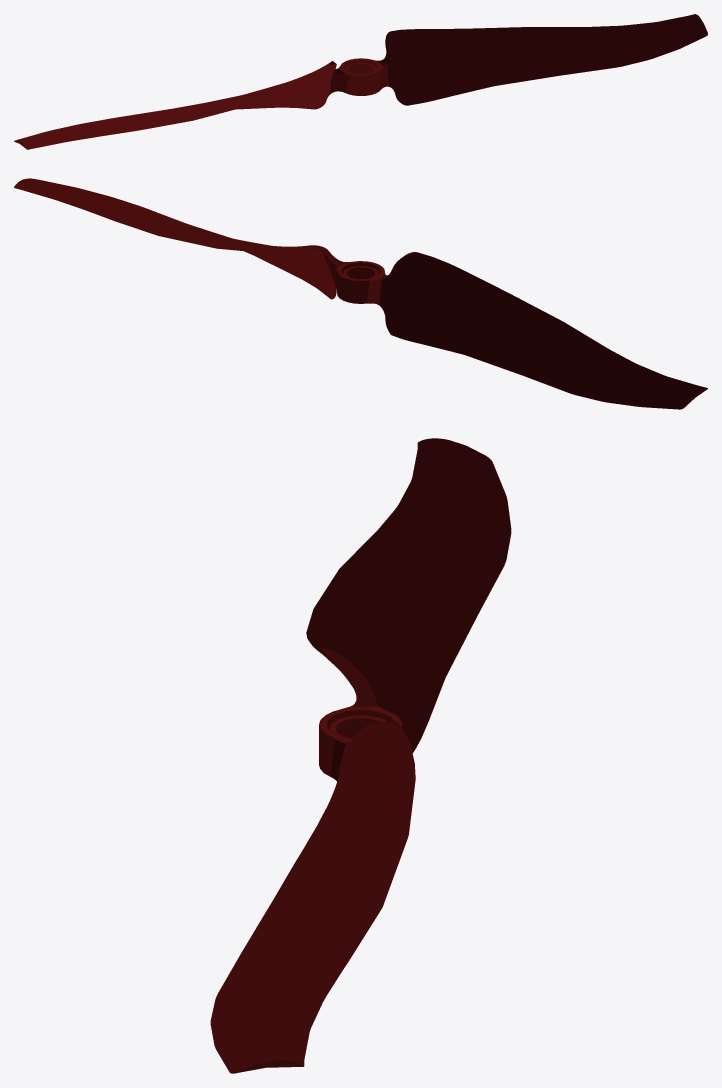
The model's file is default_propeller_5x3_ccw.dae.
3 views of the same model, one above another, from view 1: azimuth 30°, elevation 25°; view 2: azimuth 150°, elevation 25°; view 3: azimuth 270°, elevation 25° (orthographic). The views are drawn at different scales.
Parts seen in each view (by area): view 1: node0; view 2: node0; view 3: node0.
Boxes of the visible parts, <box> form: node0: <box>14,14,707,149</box>; node0: <box>14,178,707,409</box>; node0: <box>210,438,511,1073</box>.
Size of the model in its own units: 127 by 25.82 by 11.28.
